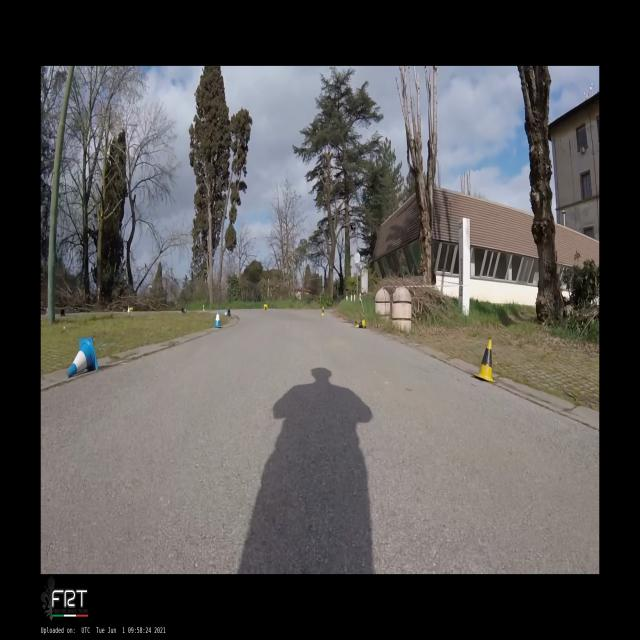blue_cone: (67, 338, 98, 378), (213, 310, 222, 328), (224, 309, 231, 316), (127, 305, 130, 314), (182, 308, 187, 313)
unknown_cone: (61, 308, 65, 316)
yellow_cone: (472, 337, 497, 382), (356, 316, 367, 329), (321, 306, 325, 316), (264, 304, 268, 310), (130, 307, 134, 312), (203, 305, 204, 311)
